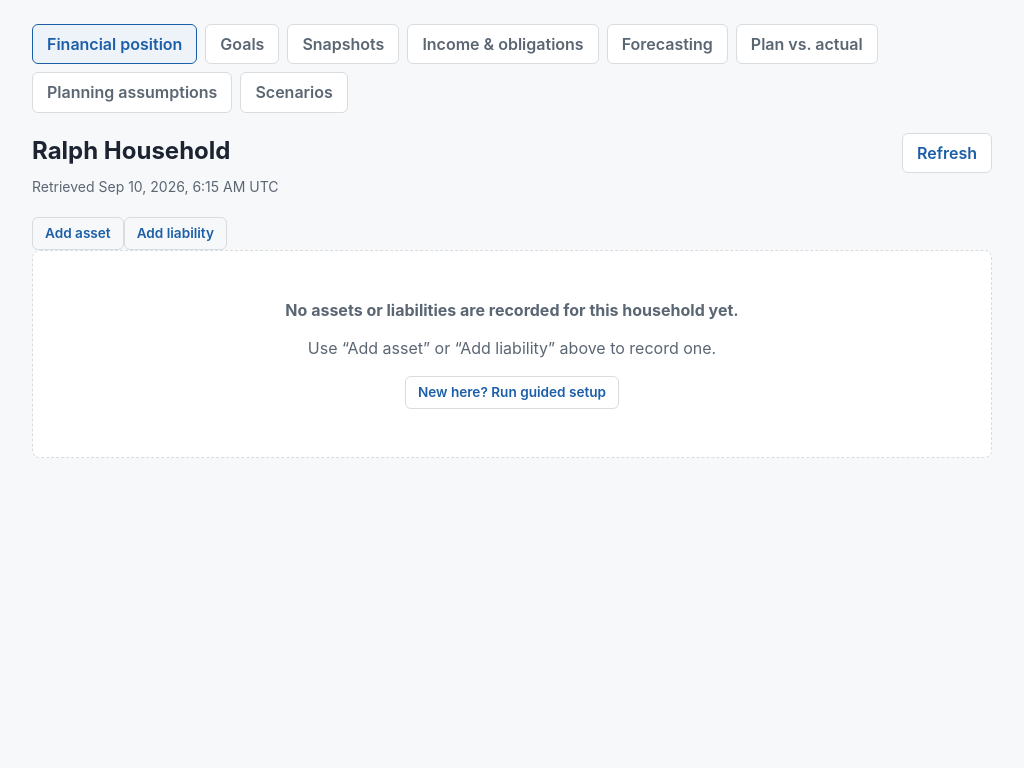
Test: plan comparison › disables submission until every currency row has a valid non-negative planned total
The width and height of the screenshot is (1024, 768).
Click the button "Plan vs. actual": (807, 44) [736, 24, 878, 64]
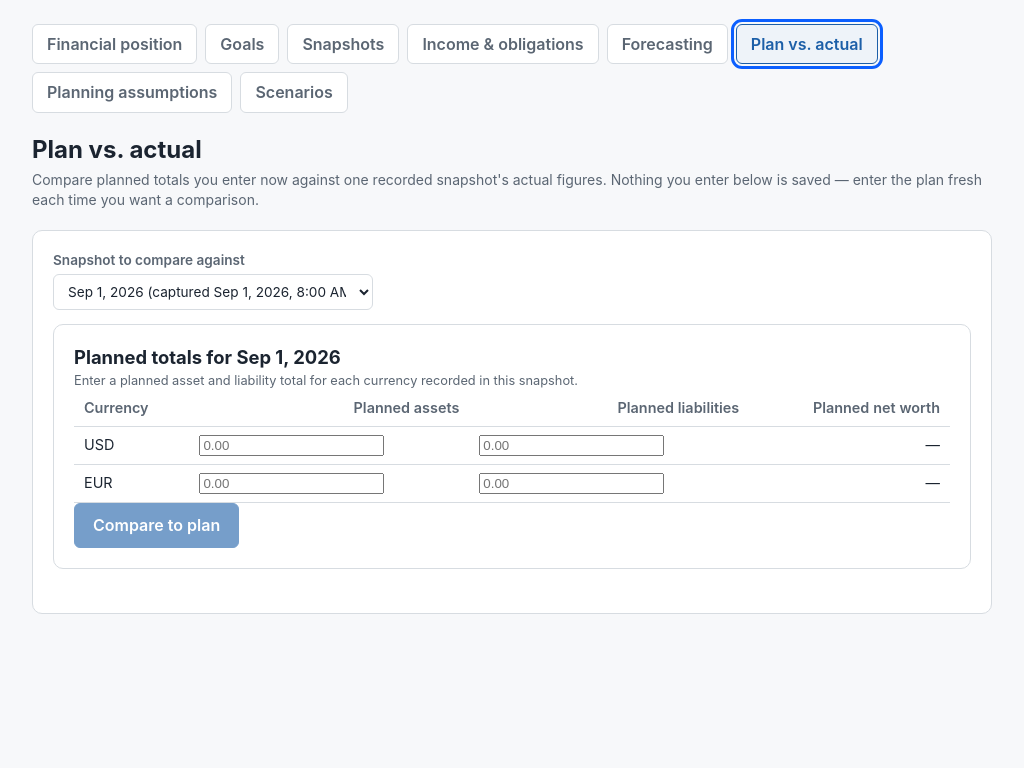
Expected: the heading "Plan vs. actual" is shown, [32, 133, 202, 166]
Expected: the button "Compare to plan" is disabled, [74, 503, 239, 548]
In the field named "Planned assets total (USD)": (292, 446) [199, 435, 384, 456], type "900"
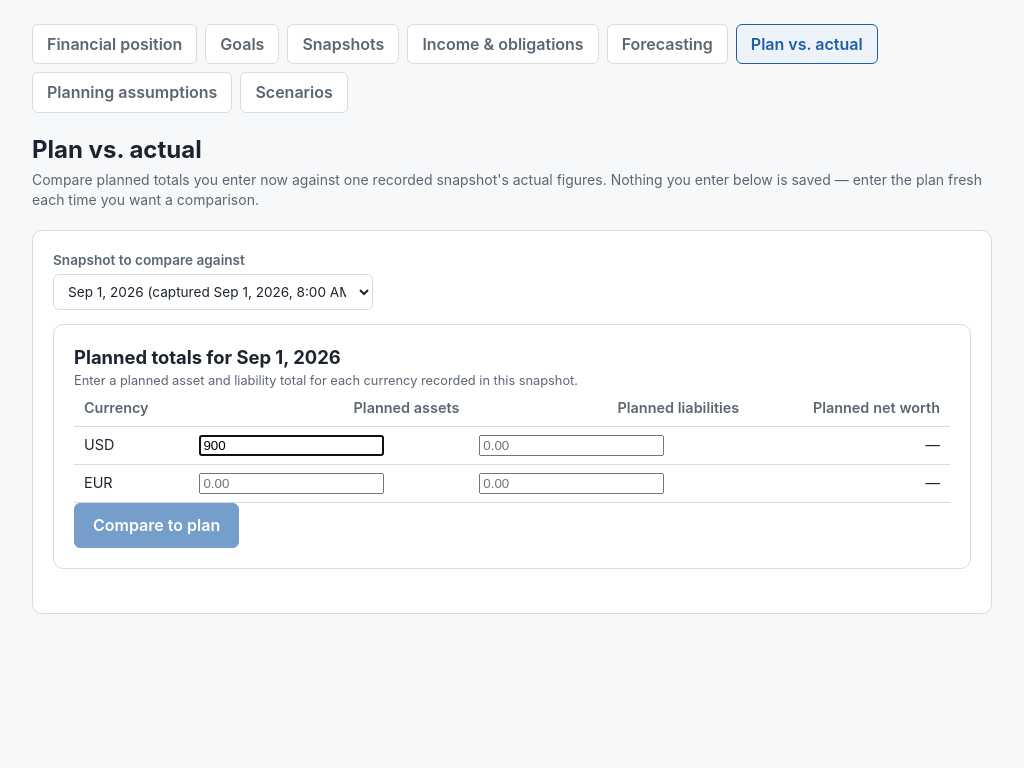
In the field named "Planned liabilities total (USD)": (572, 446) [479, 435, 664, 456], type "300"
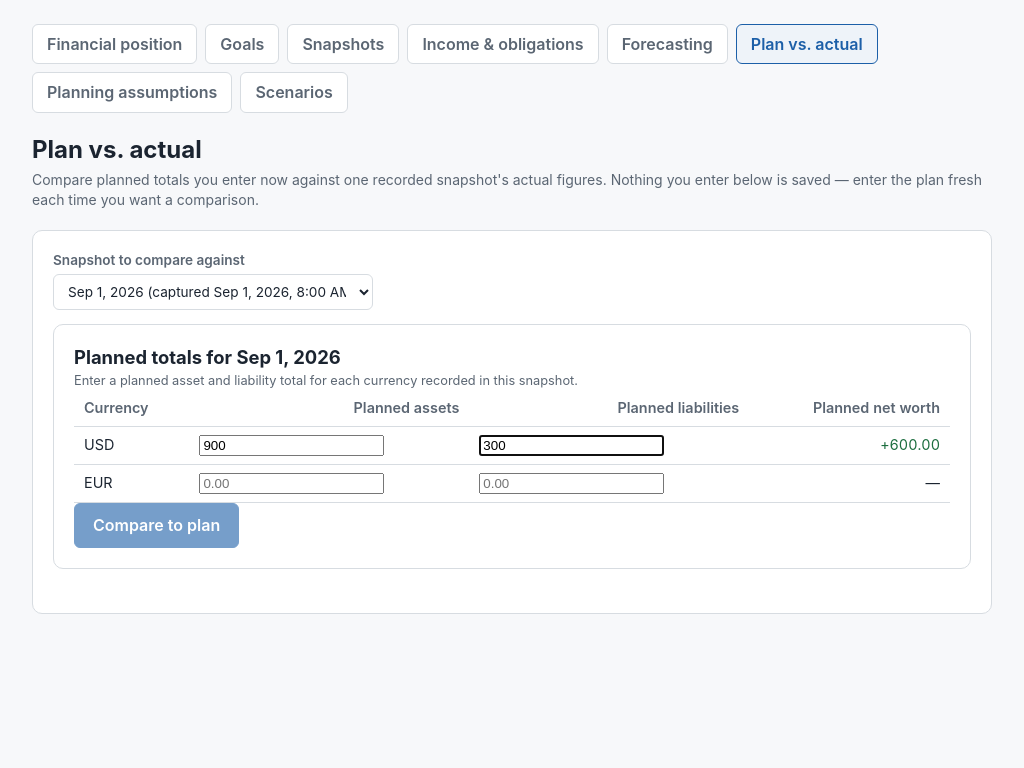
Expected: the button "Compare to plan" is disabled, [74, 503, 239, 548]
In the field named "Planned assets total (EUR)": (292, 484) [199, 473, 384, 494], type "500"
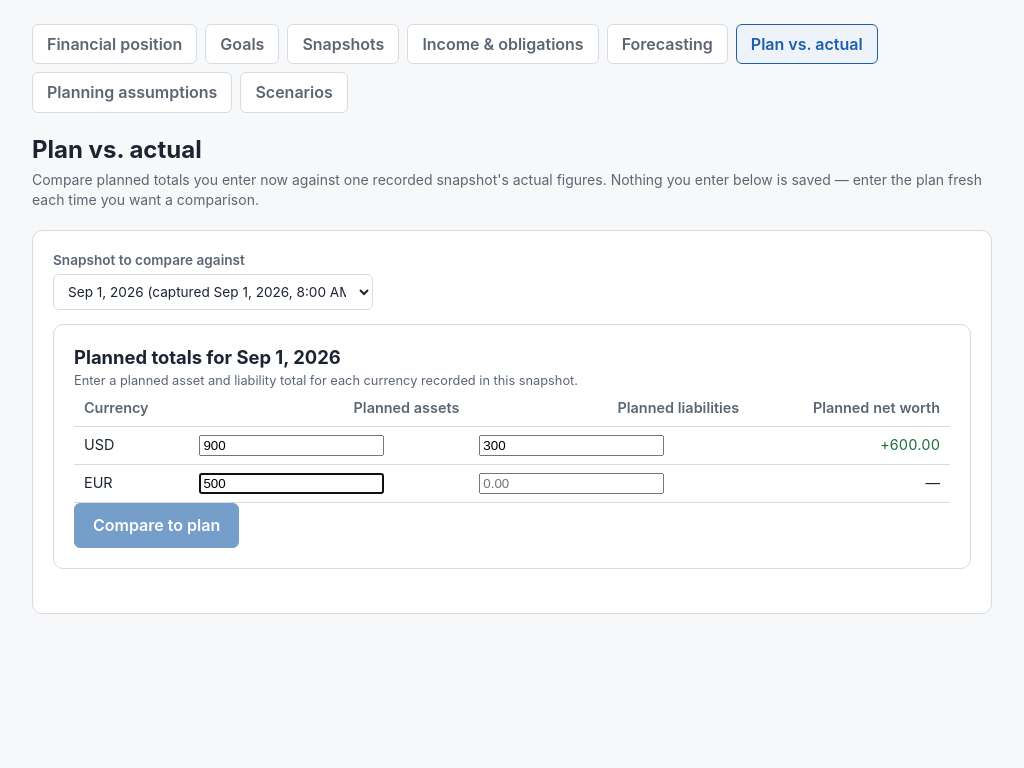
In the field named "Planned liabilities total (EUR)": (572, 484) [479, 473, 664, 494], type "0"
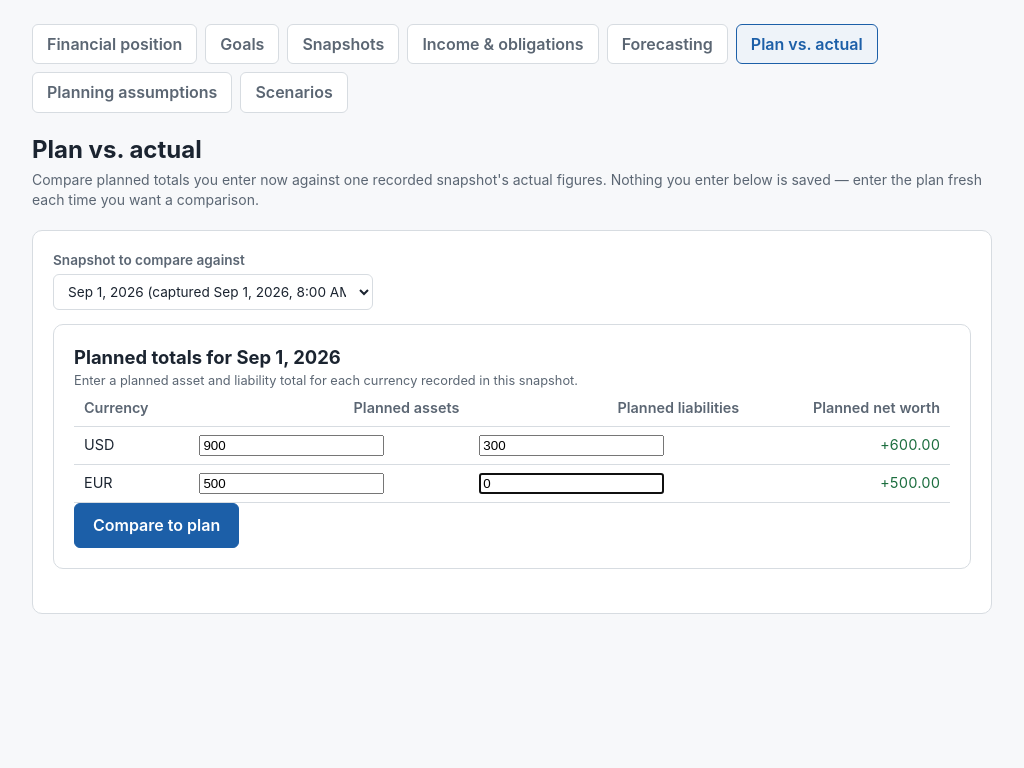
Expected: the button "Compare to plan" is enabled, [74, 503, 239, 548]
